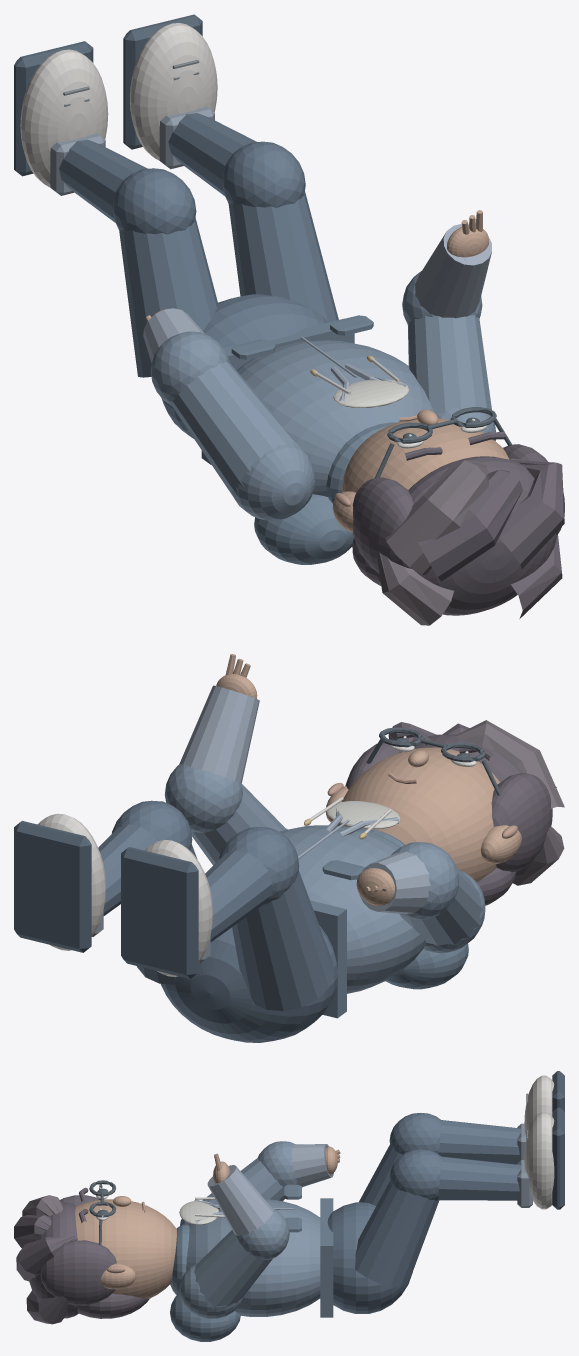
The model's file is ops_meeting_0.glb.
3 renders of one model, top to bottom at view 1: azimuth 30°, elevation 25°; view 2: azimuth 150°, elevation 25°; view 3: azimuth 270°, elevation 25°, orthographic. The views are drawn at different scales.
Visible parts, largest first — view 1: 0000__hoodie_main_torso, 0065__jeans_thigh, 0046__jeans_thigh, 0057__sleeve_upper, 0050__sneaker, 0069__sneaker, 0076__sleeve_upper, 0022__hair_crown, 0017__face_head, 0026__hair_lock_0, 0027__hair_lock_1, 0014__pants_pelvis (+22 smaller); view 2: 0017__face_head, 0000__hoodie_main_torso, 0046__jeans_thigh, 0070__rubber_sole, 0051__rubber_sole, 0014__pants_pelvis, 0078__sleeve_forearm, 0024__temple_side, 0048__jeans_shin, 0077__elbow_fold, 0047__knee_fold, 0057__sleeve_upper (+22 smaller); view 3: 0000__hoodie_main_torso, 0017__face_head, 0065__jeans_thigh, 0014__pants_pelvis, 0025__temple_side, 0076__sleeve_upper, 0067__jeans_shin, 0048__jeans_shin, 0078__sleeve_forearm, 0069__sneaker, 0066__knee_fold, 0047__knee_fold (+21 smaller).
Part boxes in pixels (box(x1,y1,x2,y2)): 0000__hoodie_main_torso: box(236, 340, 433, 496); 0065__jeans_thigh: box(228, 192, 338, 322); 0046__jeans_thigh: box(119, 218, 218, 377); 0057__sleeve_upper: box(172, 361, 296, 497); 0050__sneaker: box(20, 49, 108, 187); 0069__sneaker: box(130, 23, 217, 160); 0076__sleeve_upper: box(408, 315, 491, 413); 0022__hair_crown: box(408, 456, 556, 615); 0017__face_head: box(342, 418, 509, 492); 0026__hair_lock_0: box(385, 460, 489, 574); 0027__hair_lock_1: box(417, 469, 522, 581); 0014__pants_pelvis: box(161, 294, 328, 438); 0017__face_head: box(338, 747, 499, 882); 0000__hoodie_main_torso: box(280, 825, 425, 993); 0046__jeans_thigh: box(232, 870, 334, 1010); 0070__rubber_sole: box(14, 820, 91, 952); 0051__rubber_sole: box(121, 847, 198, 978); 0014__pants_pelvis: box(161, 925, 337, 1042); 0078__sleeve_forearm: box(179, 685, 259, 783); 0024__temple_side: box(491, 773, 552, 871); 0048__jeans_shin: box(205, 850, 272, 941); 0077__elbow_fold: box(164, 764, 242, 832); 0047__knee_fold: box(218, 827, 299, 904); 0057__sleeve_upper: box(400, 867, 483, 945); 0000__hoodie_main_torso: box(186, 1199, 320, 1316); 0017__face_head: box(75, 1199, 176, 1298); 0065__jeans_thigh: box(355, 1181, 439, 1287); 0014__pants_pelvis: box(327, 1202, 412, 1313); 0025__temple_side: box(40, 1240, 116, 1305); 0076__sleeve_upper: box(194, 1230, 272, 1309); 0067__jeans_shin: box(438, 1156, 521, 1200); 0048__jeans_shin: box(438, 1120, 521, 1164); 0078__sleeve_forearm: box(207, 1165, 273, 1236); 0069__sneaker: box(524, 1112, 554, 1209); 0066__knee_fold: box(389, 1149, 441, 1200); 0047__knee_fold: box(389, 1113, 441, 1154).
Bounding box in the file's own units: 0.81 × 0.8228 × 1.85.
